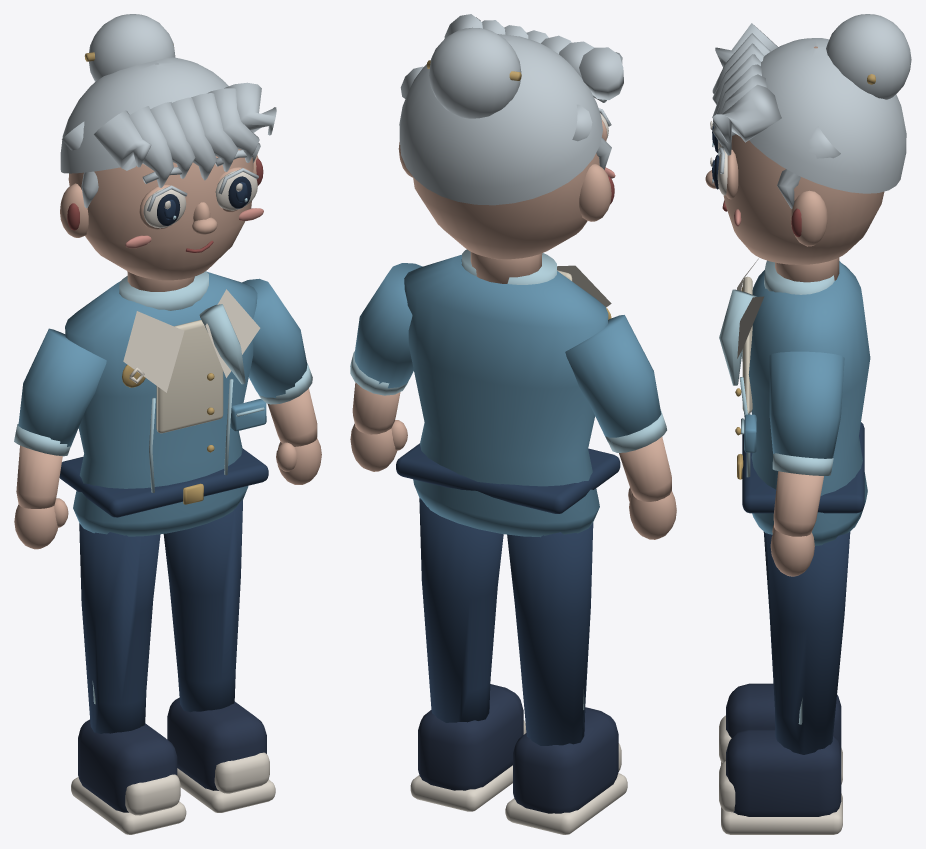
File: xingyin-characters-v1__elite_frost_warden.glb
The picture shows the model from 3 angles, left to right: view 1: azimuth 30°, elevation 25°; view 2: azimuth 150°, elevation 25°; view 3: azimuth 270°, elevation 25°; orthographic projection. The views are drawn at different scales.
Visible parts, largest first — view 1: figure.015; view 2: figure.015; view 3: figure.015.
Part boxes in pixels (x1,y1,x2,y2): figure.015: (14, 14, 321, 834); figure.015: (350, 14, 676, 834); figure.015: (705, 14, 911, 834).
Size of the model in its own units: 1.11 by 2.63 by 0.629.
